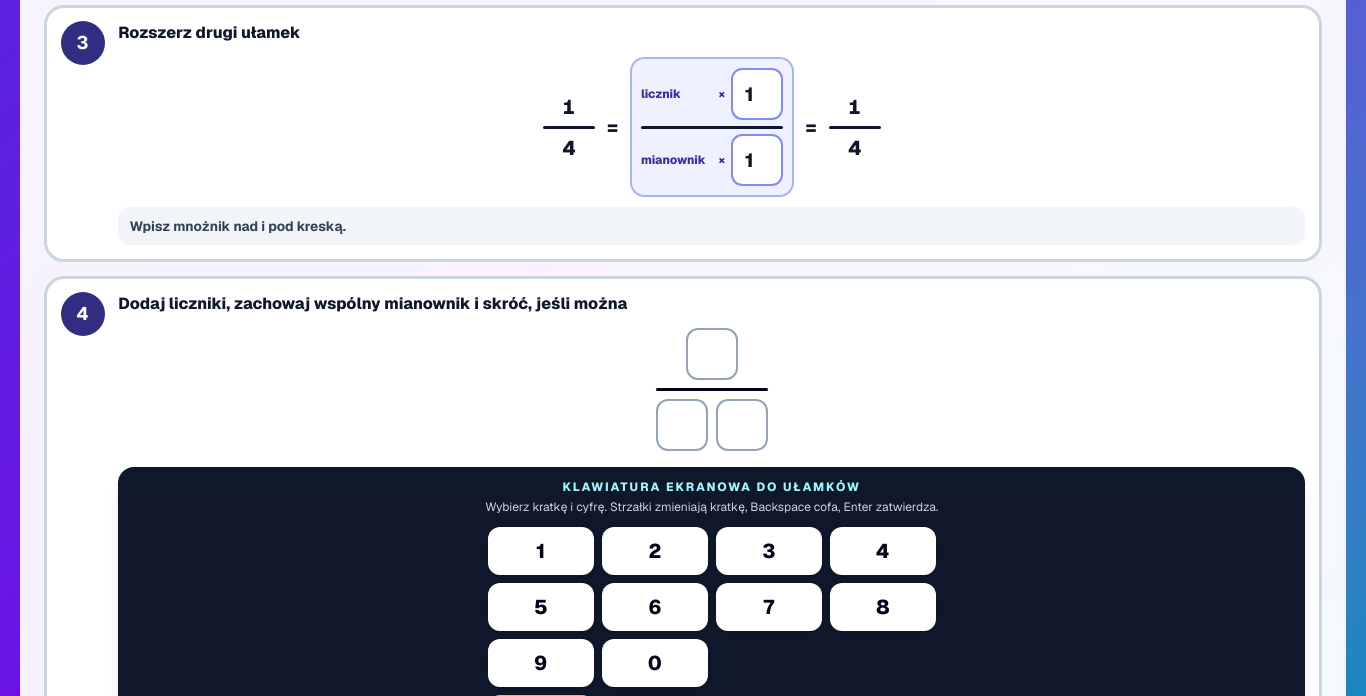
Test: FractionDifferentDenominatorMeasureLessonModel › podświetla konkretny brak wspólnego mianownika w trybie ćwiczenia
The width and height of the screenshot is (1366, 696).
(page scrolled)
Type "7" into the field named "licznik, cyfra 1 z 1" at (712, 354), box [686,328,738,380]
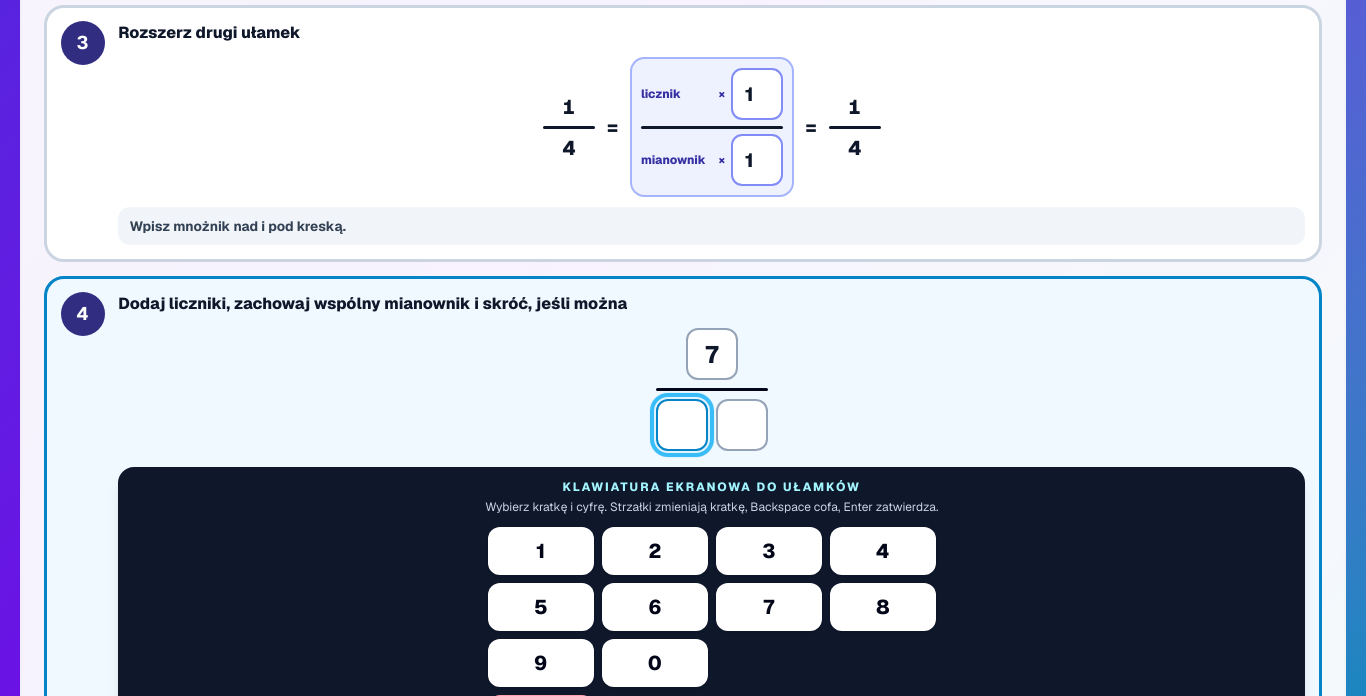
Type "1" into the field named "mianownik, cyfra 1 z 2" at (682, 425), box [656,399,708,451]
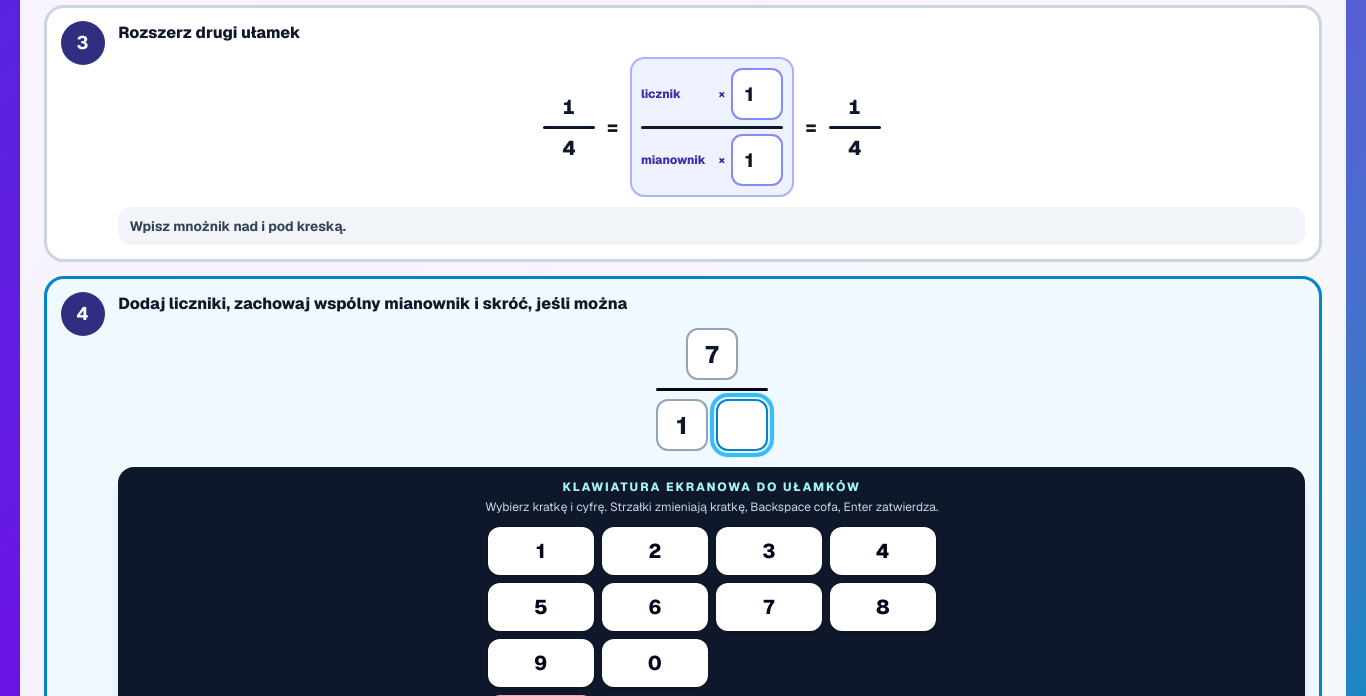
Type "2" into the field named "mianownik, cyfra 2 z 2" at (742, 425), box [716,399,768,451]
(page scrolled)
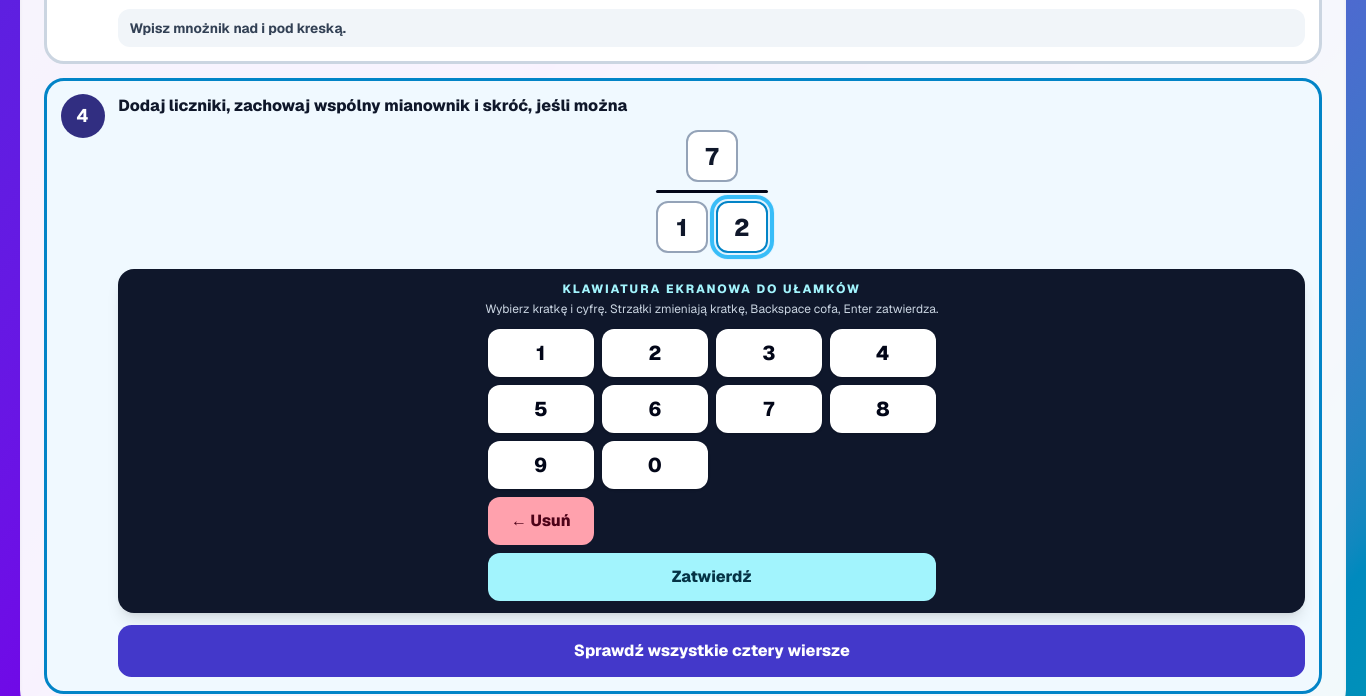
Click the button "Sprawdź wszystkie cztery wiersze" at (712, 651), box [118,625,1305,677]
(page scrolled)
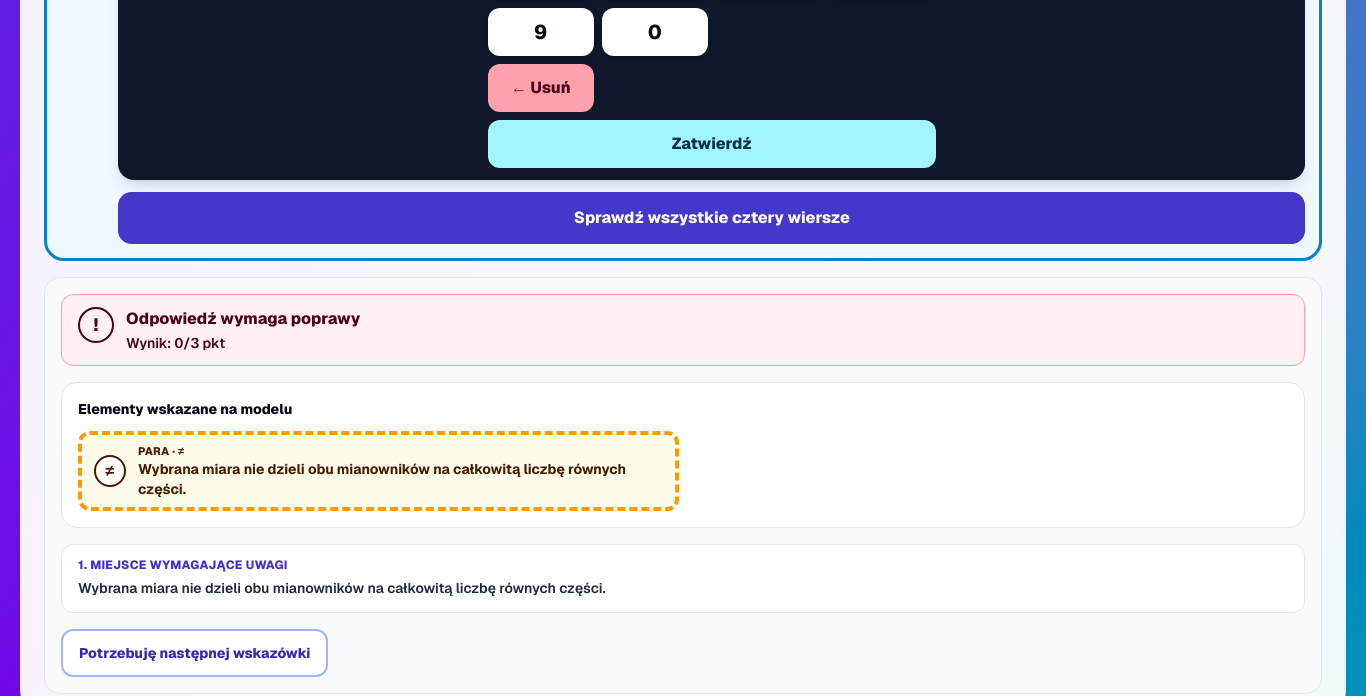
Check: the heading "Odpowiedź wymaga poprawy" is shown, box [126,307,360,331]
Check: the text "Wybrana miara nie dzieli obu mianowników" below "para" is shown, box [138,460,626,498]
